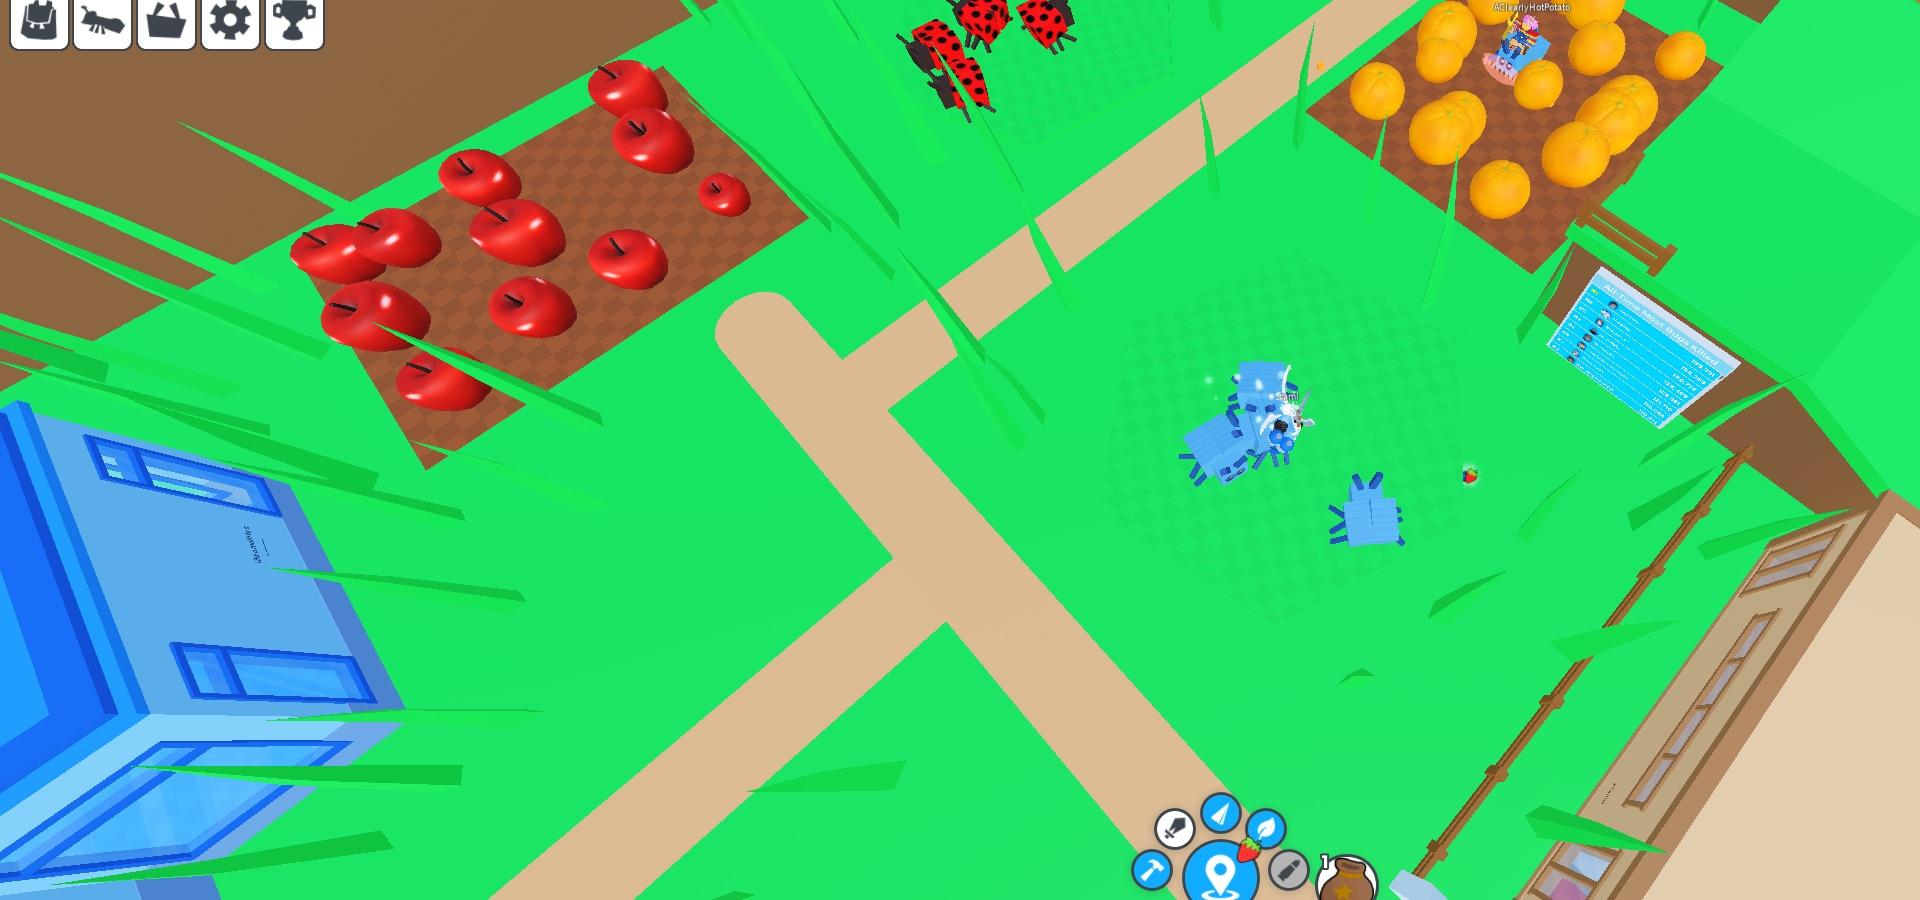Enemy: (1326, 469, 1420, 550), (1177, 408, 1245, 481), (1223, 355, 1304, 409), (927, 61, 1005, 114), (1019, 2, 1086, 54), (953, 0, 1011, 48), (1251, 418, 1310, 464), (906, 20, 960, 66)
